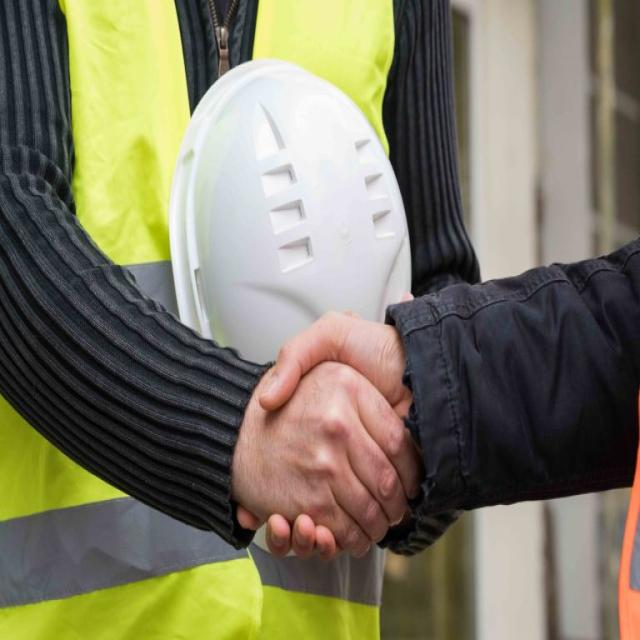helmet: (146, 56, 459, 404)
